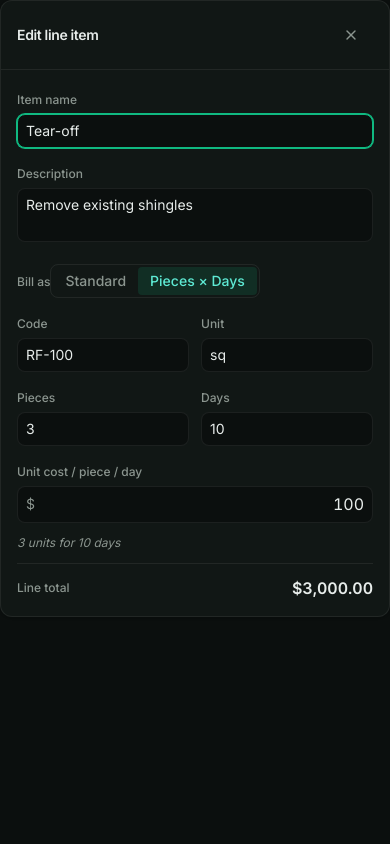
it: LineItemEditorPanel — equipment pricing (#682) › reverts a zero or negative day count on blur without committing
Replace the text in the field with test id "editor-field-days" with "0" at {"x": 287, "y": 429}, box [201,412,373,446]
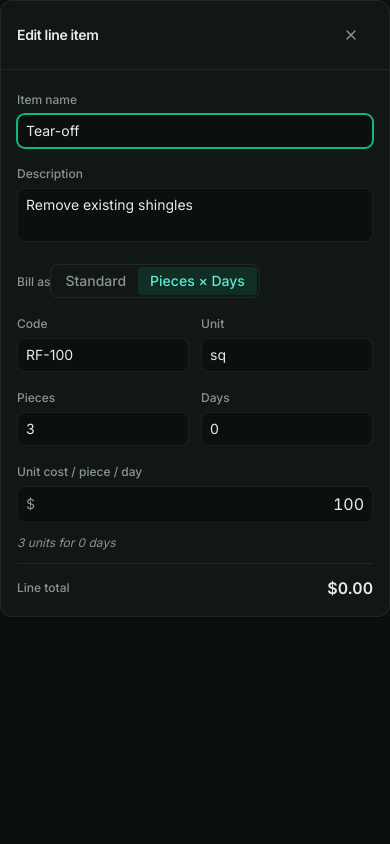
Leave the field with test id "editor-field-days", box [201,412,373,446]
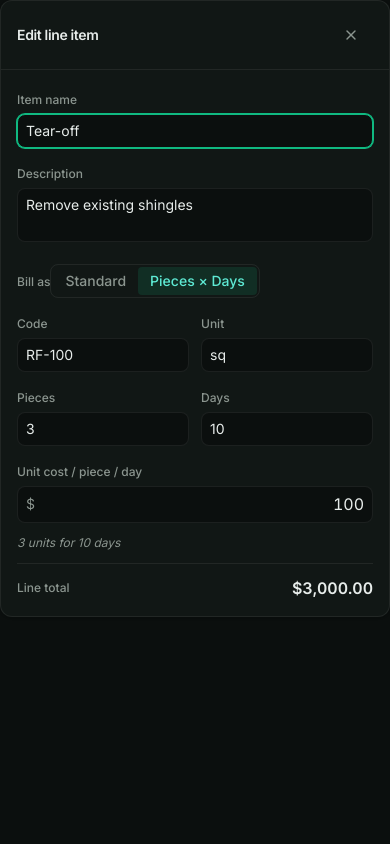
Now the field with test id "editor-field-days" holds "10"
Replace the text in the field with test id "editor-field-days" with "-1" at {"x": 287, "y": 429}, box [201,412,373,446]
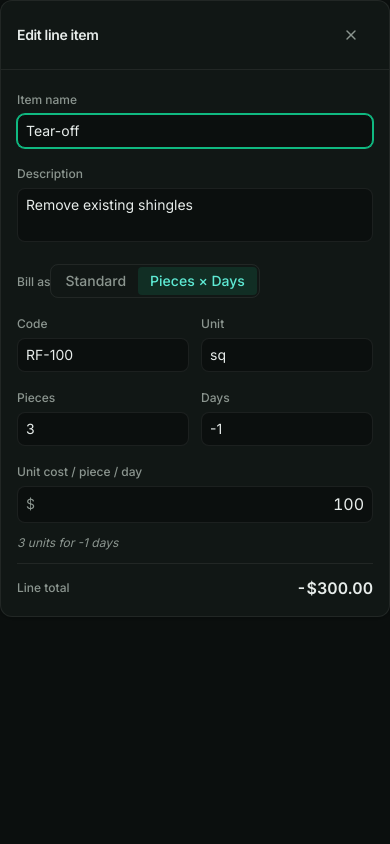
Leave the field with test id "editor-field-days", box [201,412,373,446]
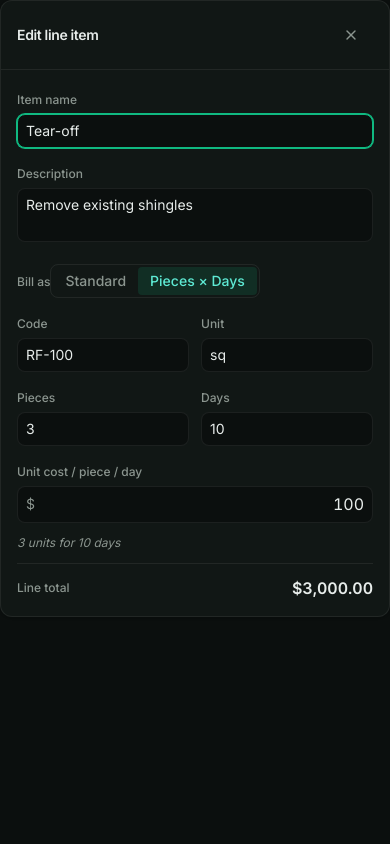
Now the field with test id "editor-field-days" holds "10", box [201,412,373,446]
